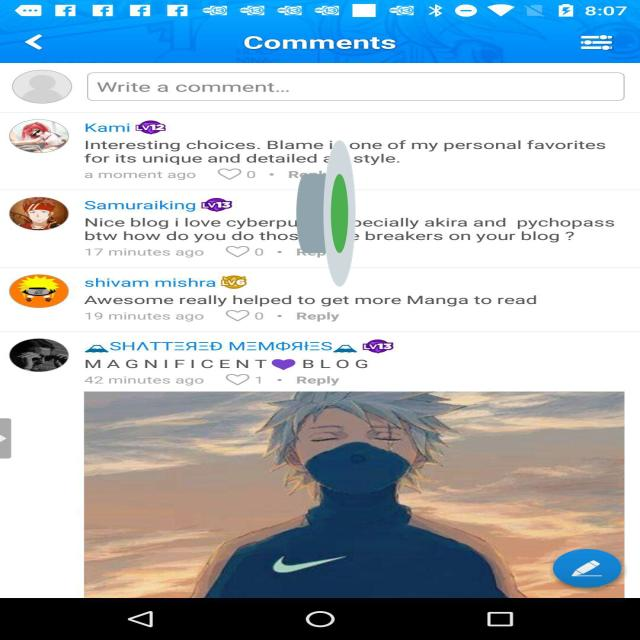social proof: (296, 78, 356, 349)
